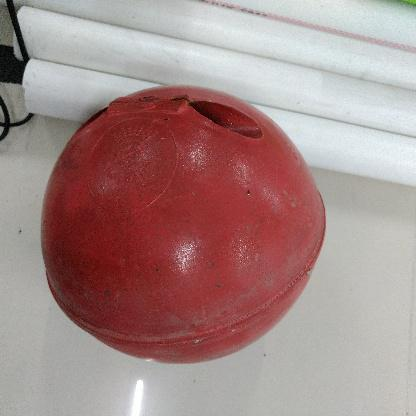red_buoy: (38, 80, 330, 363)
